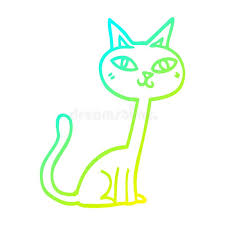cat: (29, 10, 194, 220)
